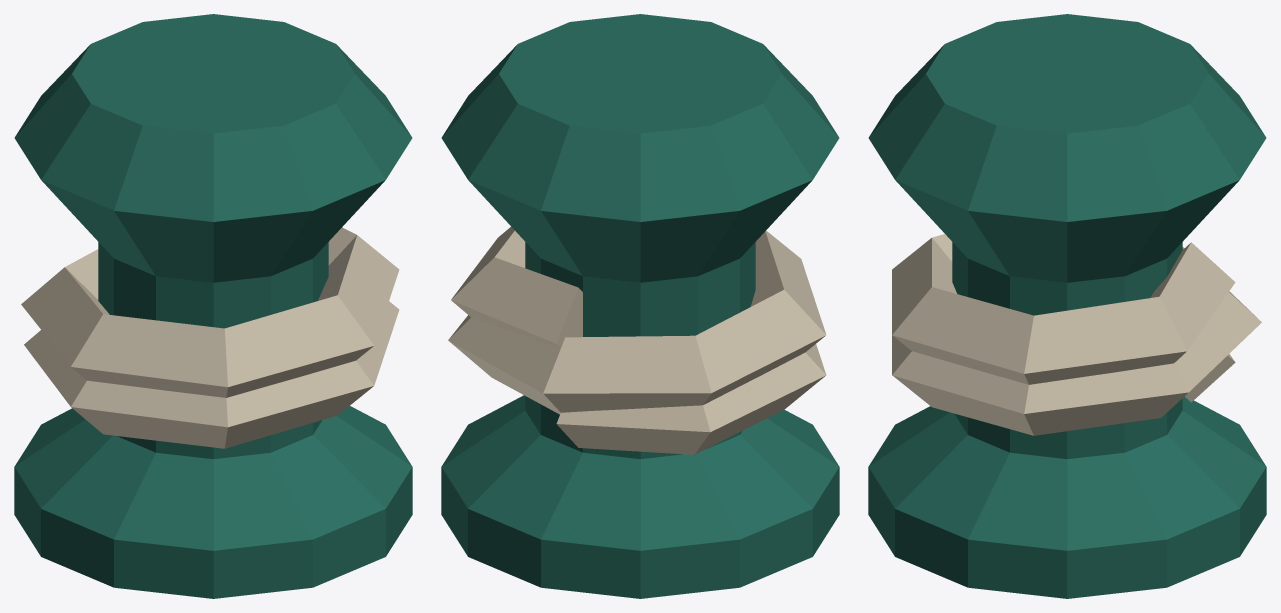
The model's file is halat_babasi.glb.
3 renders of one model, left to right at view 1: azimuth 30°, elevation 25°; view 2: azimuth 150°, elevation 25°; view 3: azimuth 270°, elevation 25°, orthographic.
Parts seen in each view (by area): view 1: halat_babasi; view 2: halat_babasi; view 3: halat_babasi.
Part boxes in pixels (left/top/right/bottom): halat_babasi: left=14, top=14, right=412, bottom=598; halat_babasi: left=441, top=14, right=839, bottom=598; halat_babasi: left=868, top=14, right=1266, bottom=598.
Size of the model in its own units: 0.45 by 0.55 by 0.45.
